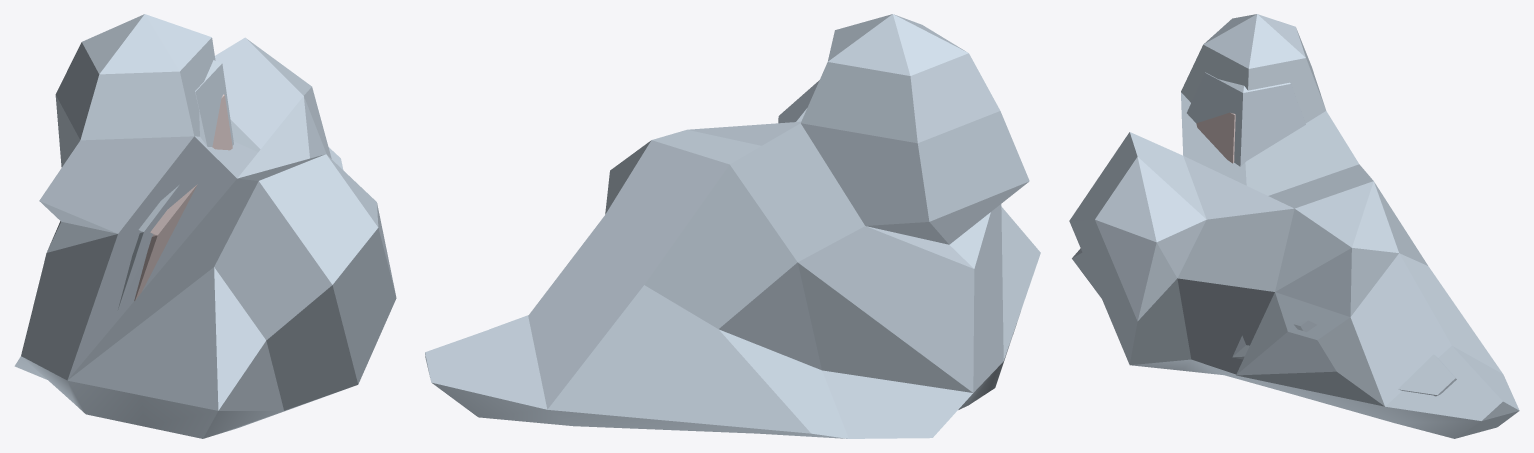
The model's file is WolkjemetAura.fbx.
The picture shows the model from 3 angles, left to right: view 1: azimuth 30°, elevation 25°; view 2: azimuth 150°, elevation 25°; view 3: azimuth 270°, elevation 25°; orthographic projection. The views are drawn at different scales.
Parts seen in each view (by area): view 1: pasted__pasted__pSphere22, pasted__pasted__pSphere23, pasted__pasted__pSphere21; view 2: pasted__pasted__pSphere22; view 3: pasted__pasted__pSphere22, pasted__pasted__pSphere23, pasted__pasted__pSphere21.
Boxes of the visible parts, box(x1,y1,x2,y2) form: pasted__pasted__pSphere22: box(14, 14, 396, 438); pasted__pasted__pSphere23: box(117, 60, 233, 311); pasted__pasted__pSphere21: box(134, 94, 232, 300); pasted__pasted__pSphere22: box(425, 14, 1040, 438); pasted__pasted__pSphere22: box(1069, 14, 1519, 438); pasted__pasted__pSphere23: box(1187, 72, 1456, 396); pasted__pasted__pSphere21: box(1196, 112, 1235, 163).
Bounding box in the file's own units: 497 × 408 × 511.
